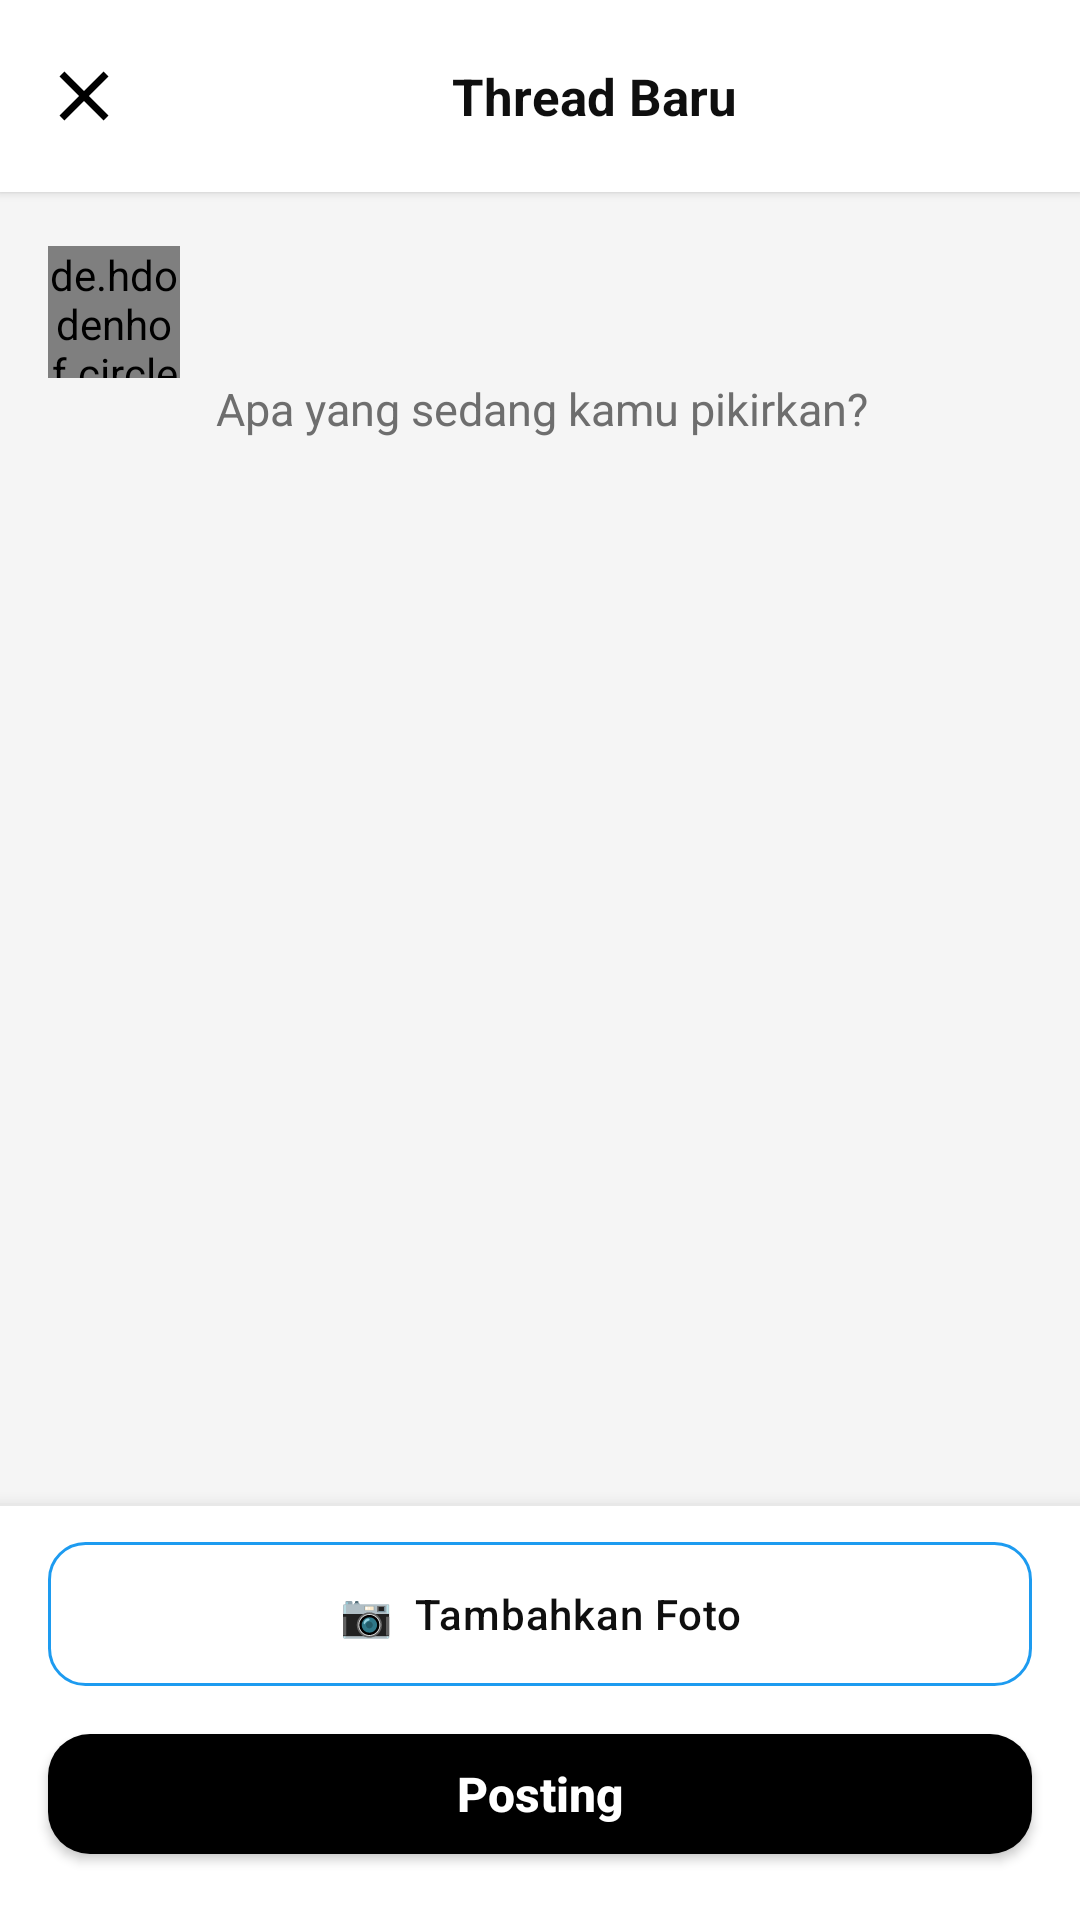

Icons on this 1080w x 1920h Android screen, each with its box as bbox=[x1, y1, x2, y2]:
Tutup: bbox=[59, 71, 109, 121]
